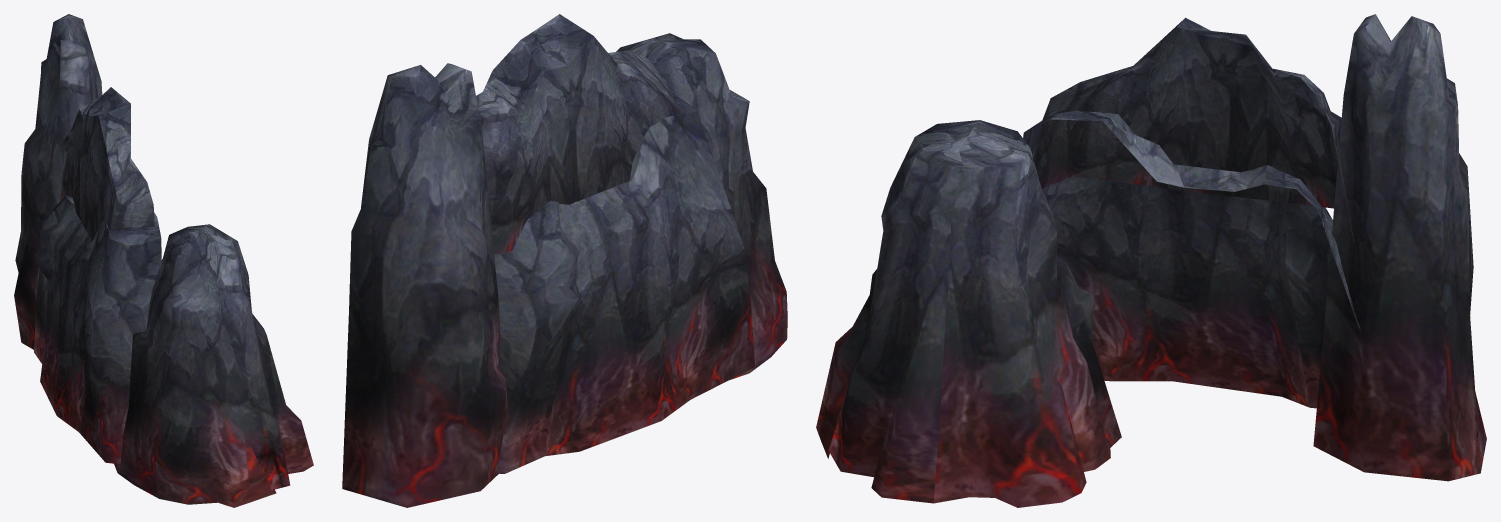
File: environment_stone_yewai_005_c.FBX
The picture shows the model from 3 angles, left to right: view 1: azimuth 30°, elevation 25°; view 2: azimuth 150°, elevation 25°; view 3: azimuth 270°, elevation 25°; orthographic projection. The views are drawn at different scales.
Parts seen in each view (by area): view 1: environment_stone_yewai_005_c; view 2: environment_stone_yewai_005_c; view 3: environment_stone_yewai_005_c.
Boxes of the visible parts, x1,y1,x2,y2 form: environment_stone_yewai_005_c: (14,14,313,507); environment_stone_yewai_005_c: (342,14,787,507); environment_stone_yewai_005_c: (816,14,1486,507).
Size of the model in its own units: 706 by 1199 by 1634.
